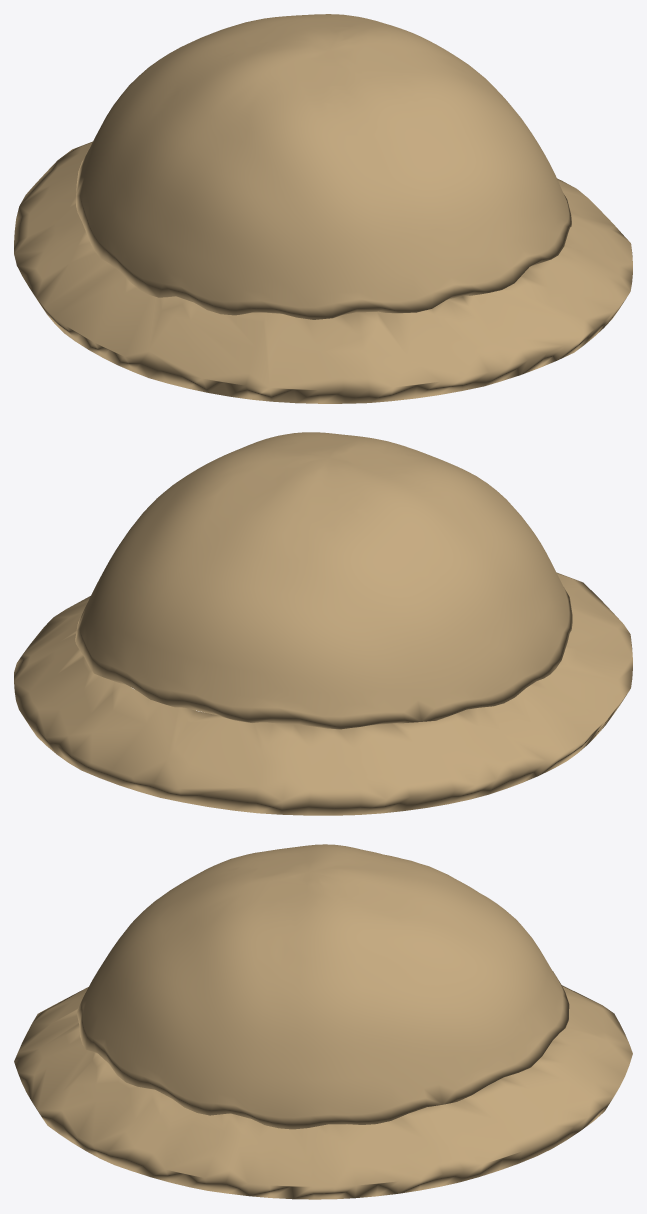
File: 4HT-feminino.glb
3 renders of one model, top to bottom at view 1: azimuth 30°, elevation 25°; view 2: azimuth 150°, elevation 25°; view 3: azimuth 270°, elevation 25°, orthographic. The views are drawn at different scales.
Parts seen in each view (by area): view 1: crown, shaped-brim; view 2: crown, shaped-brim; view 3: crown, shaped-brim.
Part boxes in pixels (<box>): crown: <box>76,14,571,319</box>; shaped-brim: <box>14,141,632,403</box>; crown: <box>75,432,572,729</box>; shaped-brim: <box>14,572,632,815</box>; crown: <box>76,844,569,1129</box>; shaped-brim: <box>14,985,632,1199</box>.
Bounding box in the file's own units: 0.0364 × 0.0156 × 0.0404.
